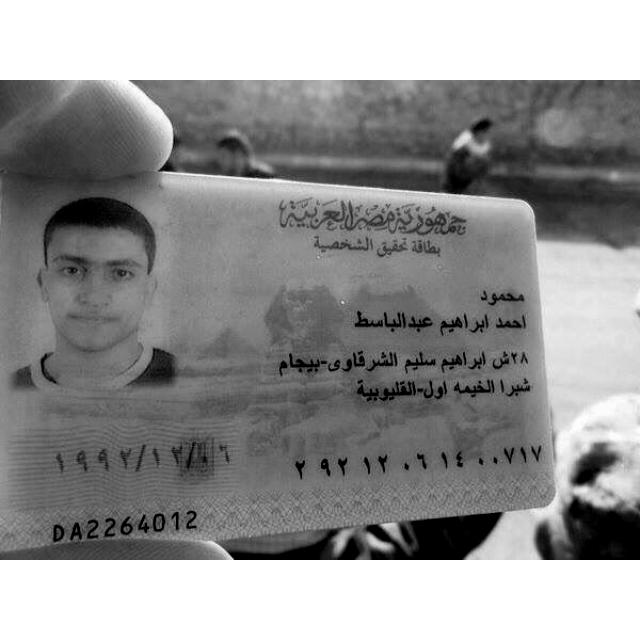id_card: (0, 172, 555, 556)
